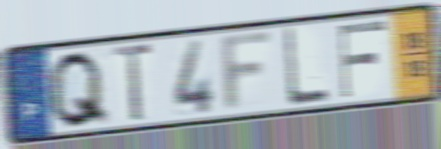4: (171, 38, 216, 117)
F: (219, 27, 277, 117), (337, 18, 389, 102)
L: (281, 25, 331, 110)
Q: (46, 48, 112, 132)
T: (110, 41, 155, 125)
